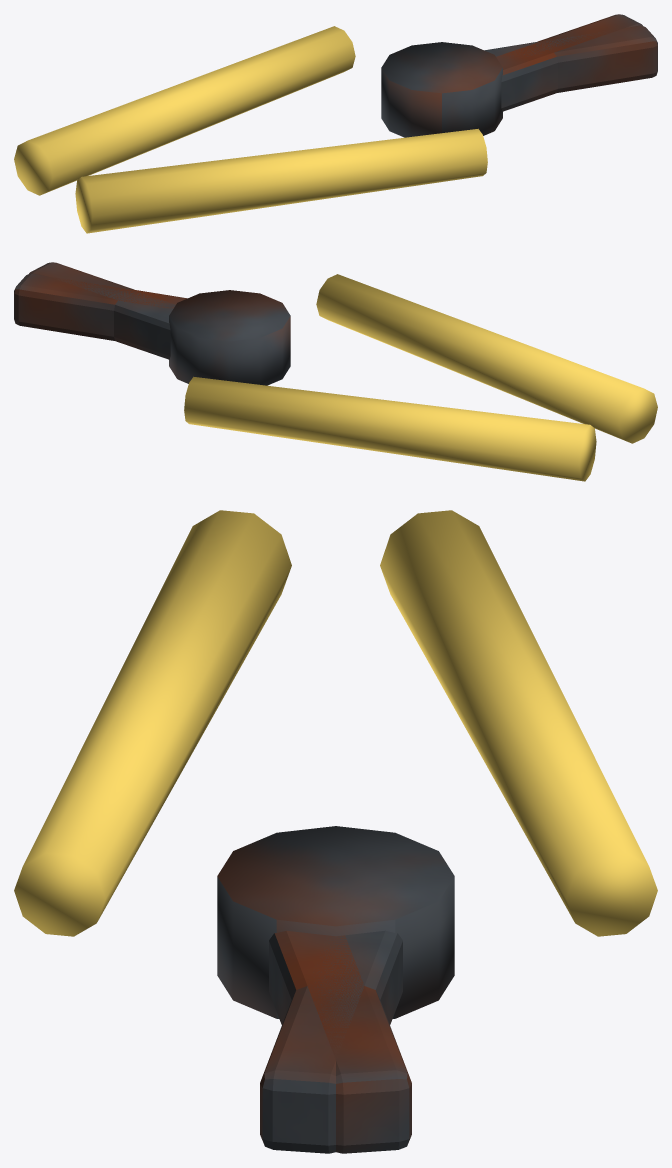
File: item_cutters.glb
3 renders of one model, top to bottom at view 1: azimuth 30°, elevation 25°; view 2: azimuth 150°, elevation 25°; view 3: azimuth 270°, elevation 25°, orthographic. The views are drawn at different scales.
Visible parts, largest first — view 1: GripL, GripR, PivotBolt, JawR, JawL; view 2: GripR, GripL, PivotBolt, JawL, JawR; view 3: GripL, GripR, PivotBolt, JawL, JawR.
Boxes of the visible parts, bbox=[...] form: GripL: bbox=[75, 128, 487, 233]; GripR: bbox=[14, 26, 355, 195]; PivotBolt: bbox=[381, 42, 502, 137]; JawR: bbox=[484, 25, 657, 92]; JawL: bbox=[496, 14, 642, 111]; GripR: bbox=[184, 376, 596, 481]; GripL: bbox=[316, 274, 657, 443]; PivotBolt: bbox=[169, 290, 290, 385]; JawL: bbox=[14, 273, 187, 340]; JawR: bbox=[29, 262, 175, 359]; GripL: bbox=[14, 510, 291, 936]; GripR: bbox=[380, 510, 657, 936]; PivotBolt: bbox=[217, 826, 454, 1018]; JawL: bbox=[269, 930, 411, 1153]; JawR: bbox=[260, 930, 402, 1153].
Bounding box in the file's own units: 0.4279 × 0.035 × 0.206.
2 materials, 1 textured.
